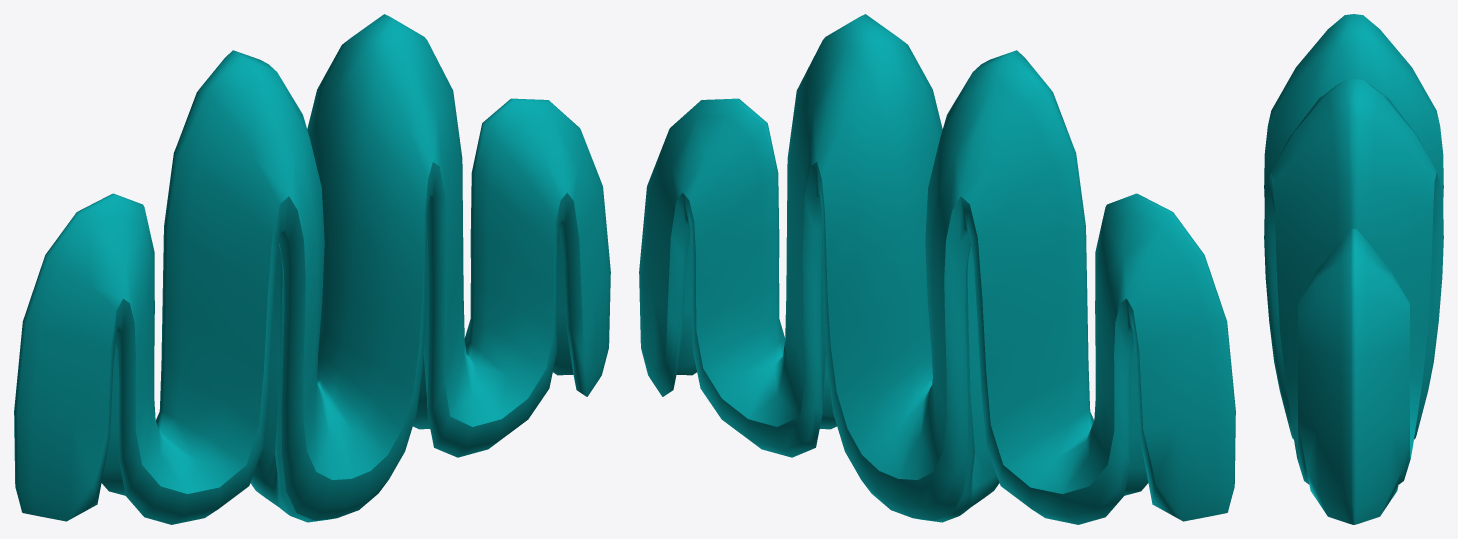
File: bush-1.glb
3 views of the same model, side by side, from view 1: azimuth 30°, elevation 25°; view 2: azimuth 150°, elevation 25°; view 3: azimuth 270°, elevation 25° (orthographic). The views are drawn at different scales.
Parts seen in each view (by area): view 1: Bush_1; view 2: Bush_1; view 3: Bush_1.
Boxes of the visible parts, left/top/right/bottom form: Bush_1: left=14, top=14, right=610, bottom=524; Bush_1: left=639, top=14, right=1235, bottom=524; Bush_1: left=1264, top=14, right=1443, bottom=524.
Bounding box in the file's own units: 3.26 × 2.48 × 0.9791.
1 material, 1 textured.
